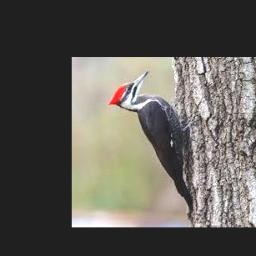Woodpecker: (108, 70, 197, 218)
